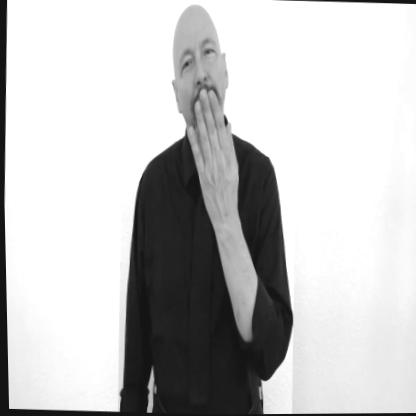ThankYou: (109, 0, 304, 415)
